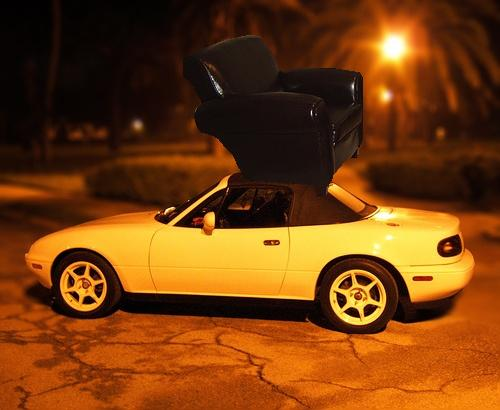tampered: (184, 36, 363, 197)
